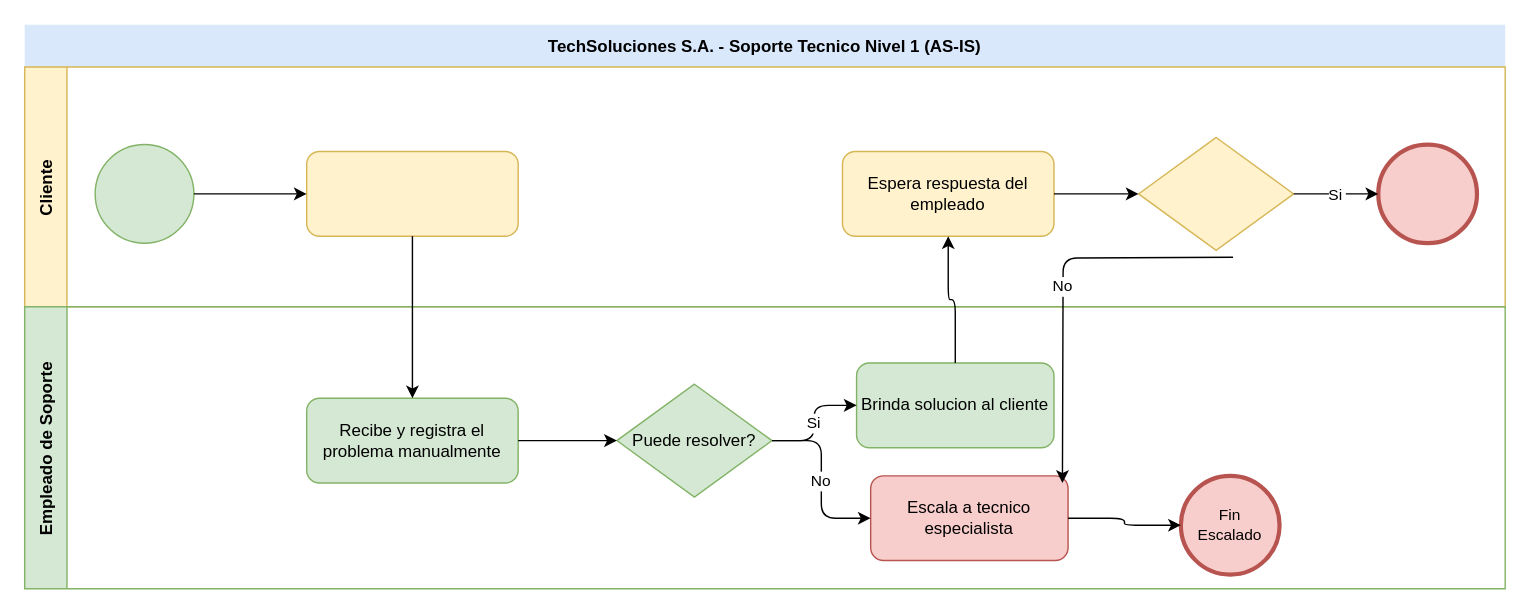
This 1530x613 diagram has some shape labels left out. Each missing label, with the centre of its shape:
"Describe el problema al empleado" belongs at (411,193).
"Fin Caso cerrado" belongs at (1426,193).
"Inicio" belongs at (144,193).
"Problema resuelto?" belongs at (1215,193).
